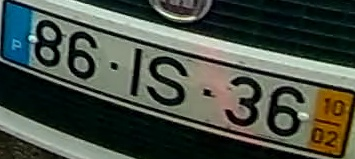3: (223, 74, 265, 129)
6: (265, 85, 306, 138), (65, 29, 99, 80)
8: (33, 18, 63, 68)
I: (128, 45, 144, 99)
S: (144, 54, 191, 109)
